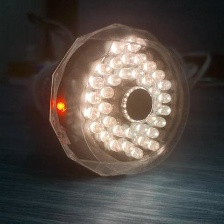light_bulb: (23, 16, 196, 185)
